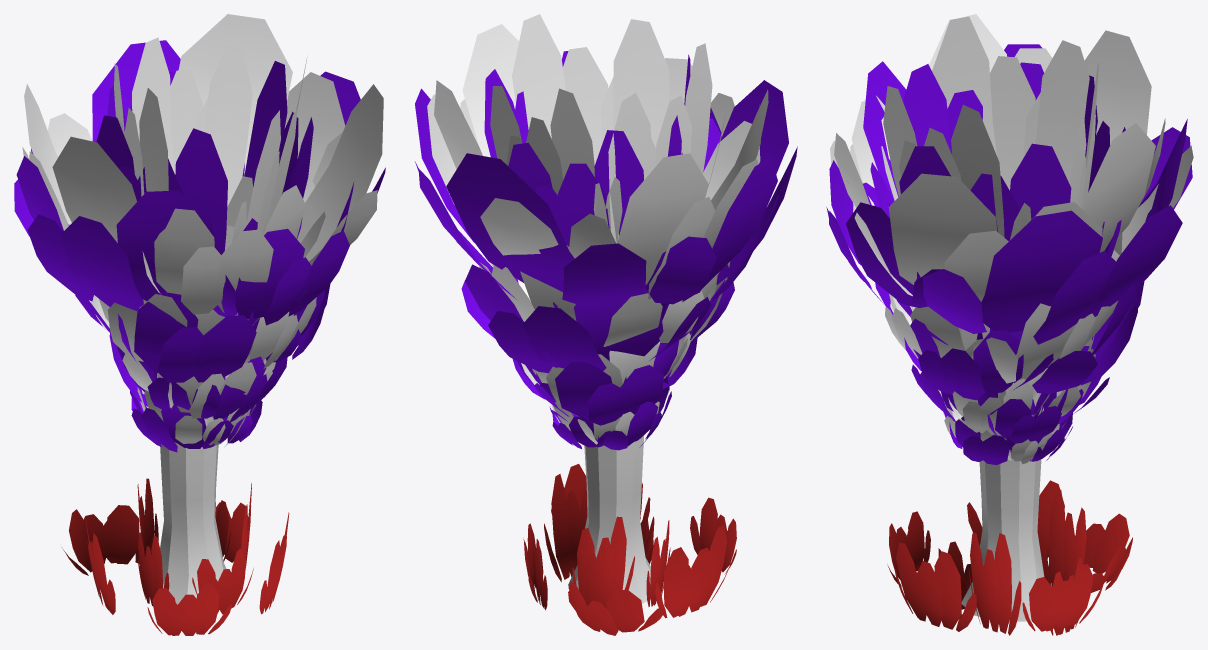
Rendered from tree_withGrass02.fbx.
3 views of the same model, side by side, from view 1: azimuth 30°, elevation 25°; view 2: azimuth 150°, elevation 25°; view 3: azimuth 270°, elevation 25° (orthographic). The views are drawn at different scales.
Parts seen in each view (by area): view 1: tree_leaves.001, tree_leaves, grassPile.003, tree01, grassPile.001; view 2: tree_leaves.001, tree_leaves, grassPile.003, grassPile.001, tree01; view 3: tree_leaves.001, tree_leaves, grassPile.003, grassPile.001, tree01.
Boxes of the visible parts, <box> form: tree_leaves.001: <box>22,14,383,446</box>; tree_leaves: <box>14,40,385,452</box>; grassPile.003: <box>62,502,289,635</box>; tree01: <box>160,418,226,604</box>; grassPile.001: <box>137,478,253,614</box>; tree_leaves.001: <box>427,14,768,444</box>; tree_leaves: <box>415,51,797,450</box>; grassPile.003: <box>523,464,736,635</box>; grassPile.001: <box>532,474,670,610</box>; tree01: <box>568,436,650,603</box>; tree_leaves.001: <box>830,14,1193,463</box>; tree_leaves: <box>826,44,1192,464</box>; grassPile.003: <box>887,480,1132,631</box>; grassPile.001: <box>938,489,1087,635</box>; tree01: <box>961,390,1044,621</box>.
Size of the model in its own units: 272 by 423 by 250.
